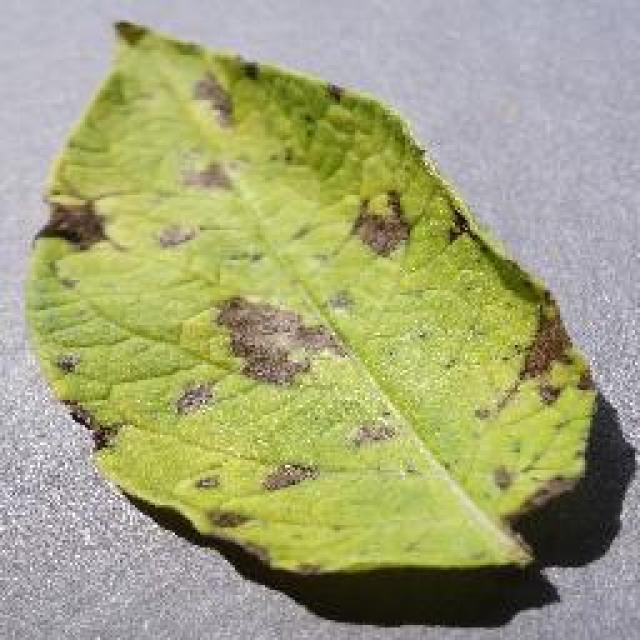Potato: (20, 18, 598, 582)
